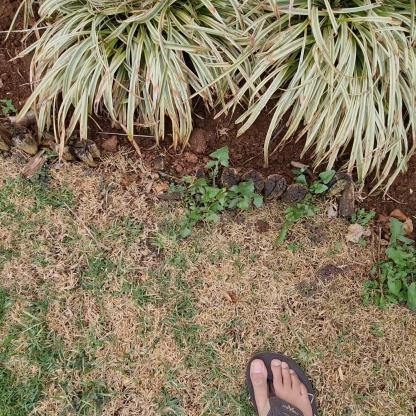Weeds: (165, 147, 262, 237), (361, 217, 415, 312), (276, 165, 336, 247), (350, 208, 375, 249), (2, 98, 16, 118)
